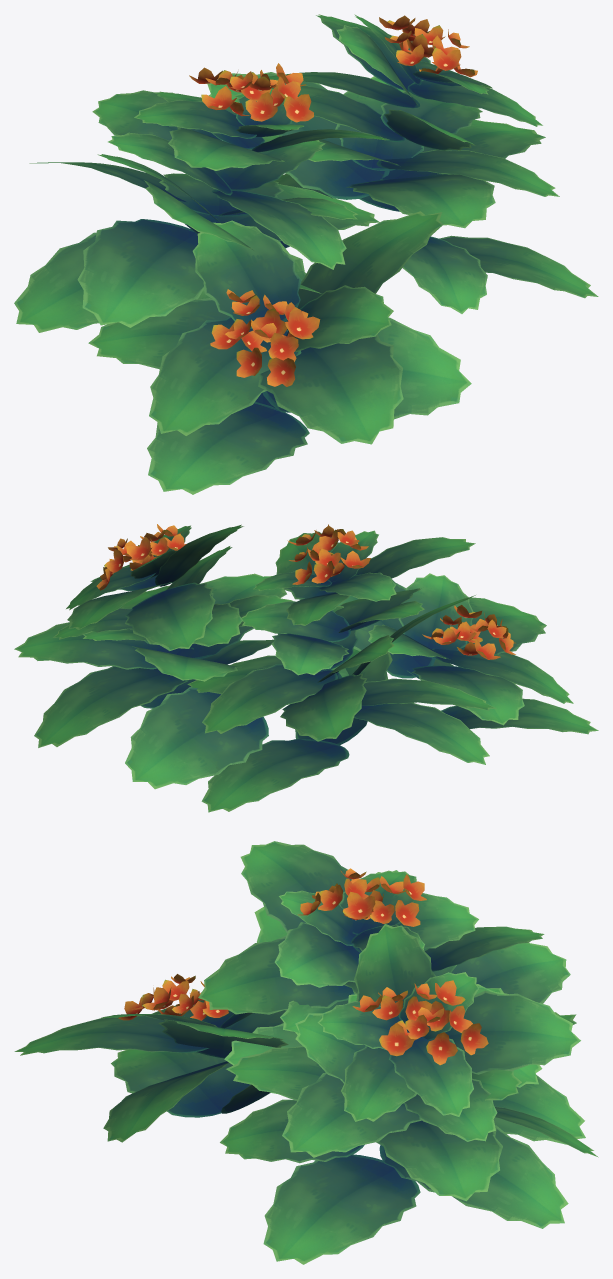
Rendered from mesh_kalanchoe.fbx.
The picture shows the model from 3 angles, top to bottom: view 1: azimuth 30°, elevation 25°; view 2: azimuth 150°, elevation 25°; view 3: azimuth 270°, elevation 25°; orthographic projection. The views are drawn at different scales.
Parts seen in each view (by area): view 1: kalanchoe; view 2: kalanchoe; view 3: kalanchoe.
Boxes of the visible parts, x1,y1,x2,y2 form: kalanchoe: [14, 14, 598, 494]; kalanchoe: [14, 524, 598, 812]; kalanchoe: [14, 841, 598, 1264].
Size of the model in its own units: 0.3815 by 0.1878 by 0.3757.
